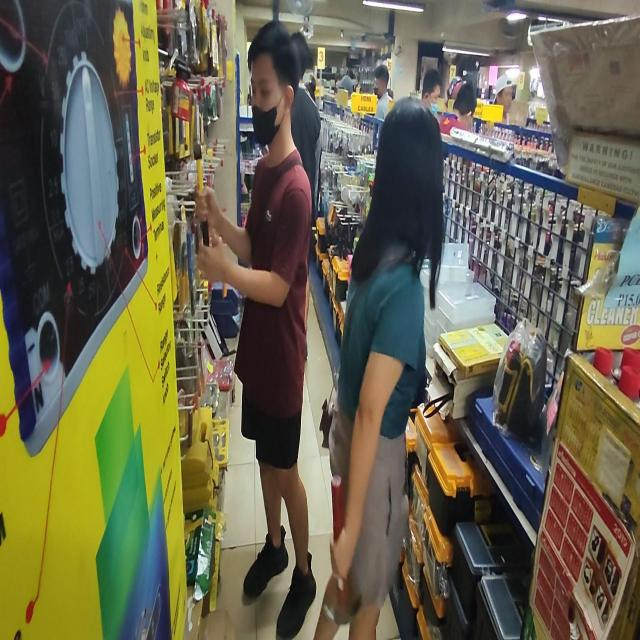hammer: (323, 474, 363, 628), (192, 142, 216, 256)
